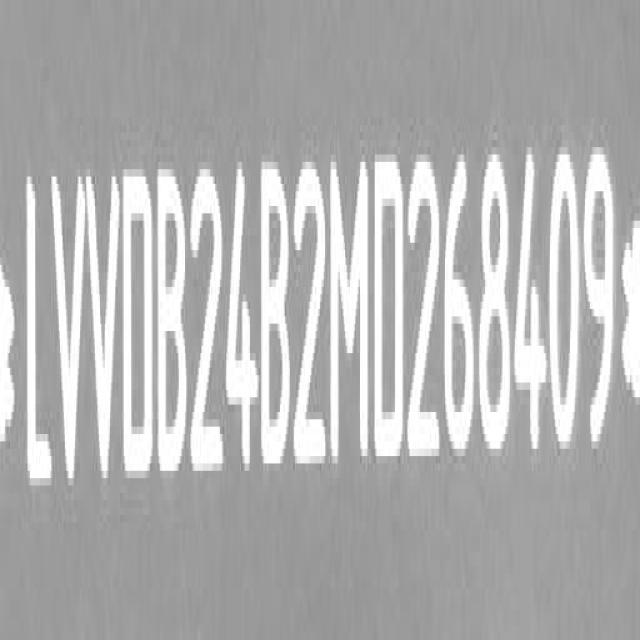0: (551, 150, 583, 462)
2: (191, 167, 227, 486), (409, 155, 444, 471), (296, 156, 328, 478)
4: (224, 161, 257, 486), (516, 144, 549, 462)
6: (444, 150, 478, 466)
8: (479, 152, 512, 464)
9: (585, 148, 618, 457)
B: (261, 157, 294, 477), (159, 167, 190, 488)
D: (375, 152, 410, 474), (124, 166, 157, 488)
L: (23, 167, 50, 496)
M: (330, 148, 372, 473)
V: (51, 168, 87, 495), (88, 164, 122, 497)
